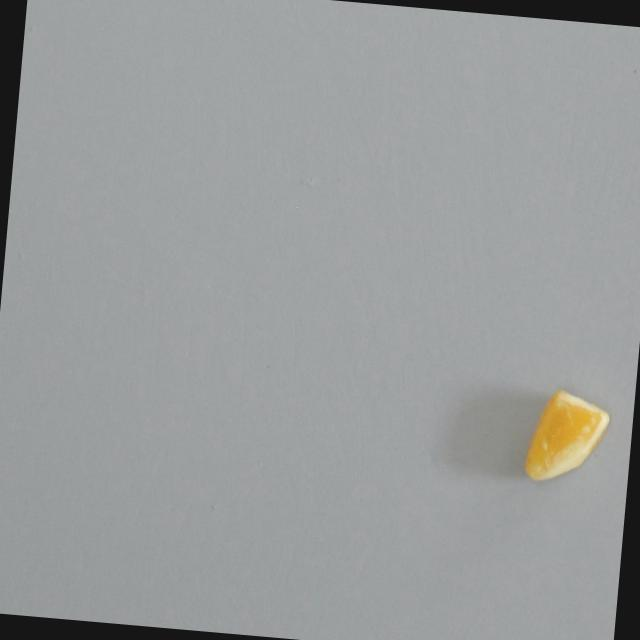pelicula: (519, 386, 612, 490)
